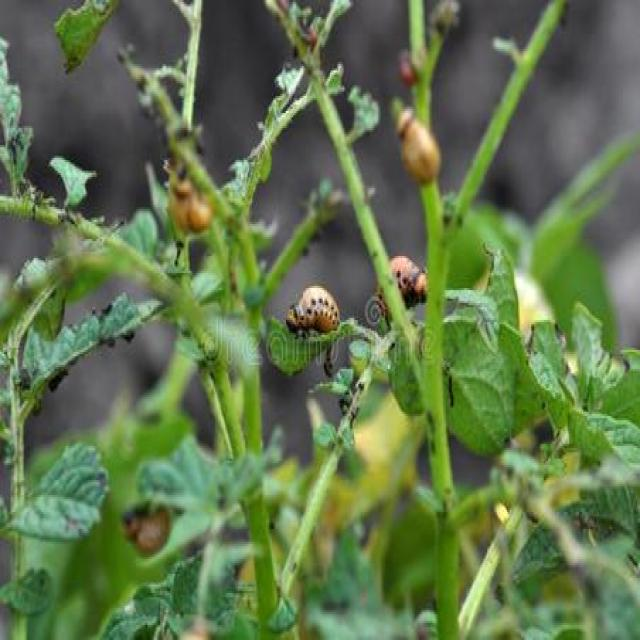ShuCaiHuaBanChong-Larva-: (282, 280, 342, 338)
